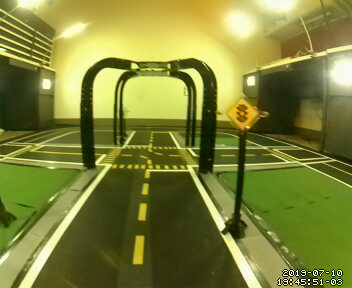Traffic light sign: (226, 97, 260, 134)
